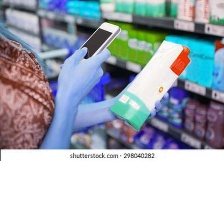carton: (107, 38, 191, 132)
phone: (75, 20, 123, 64)
